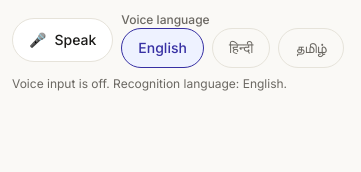
it: VoiceInput (supported browser) › starts recognition on click and shows the listening state
Click the button with aria-label "start voice input" at x=63, y=40, box top-left (12, 18), bottom-right (113, 62)
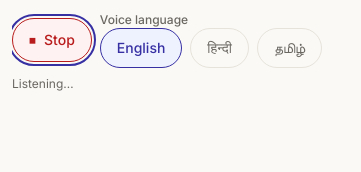
Now the text "Listening…" is shown, box top-left (12, 76), bottom-right (74, 91)
